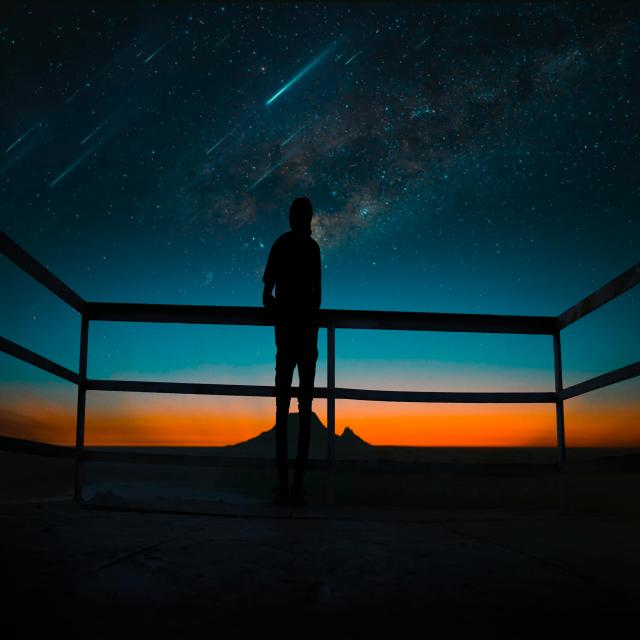stand: (257, 181, 326, 446)
